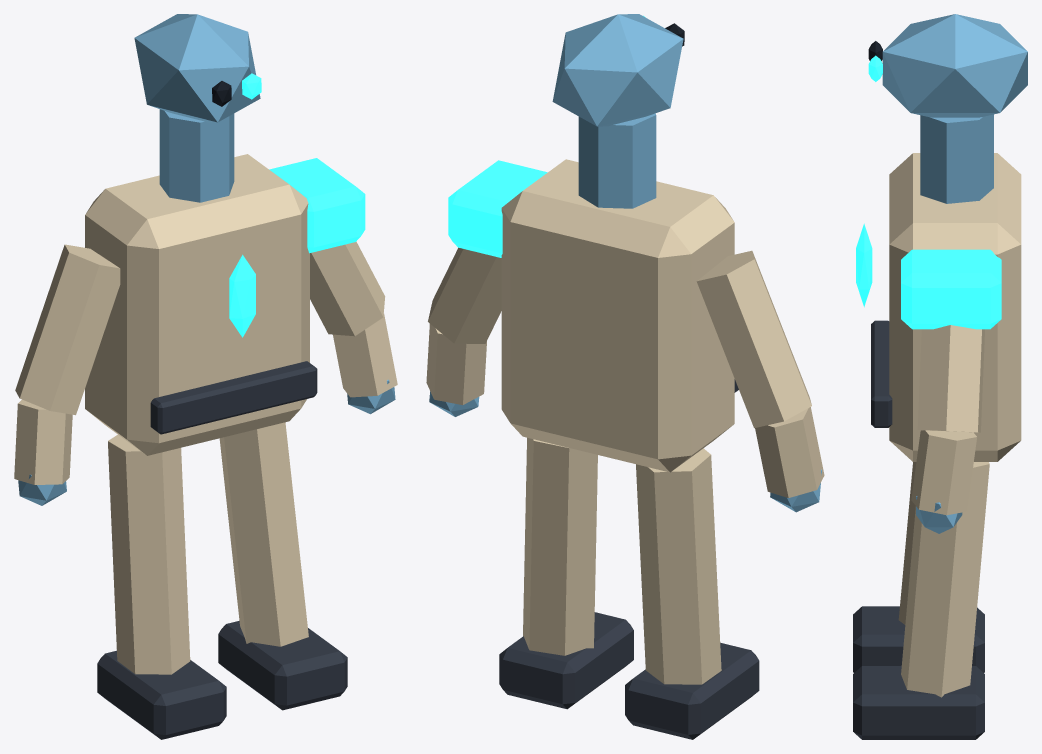
Rendered from npcs_026_seed11.glb.
3 renders of one model, left to right at view 1: azimuth 30°, elevation 25°; view 2: azimuth 150°, elevation 25°; view 3: azimuth 270°, elevation 25°, orthographic. The views are drawn at different scales.
Visible parts, largest first — view 1: npcs_026_seed11; view 2: npcs_026_seed11; view 3: npcs_026_seed11.
Boxes of the visible parts, x1,y1,x2,y2 form: npcs_026_seed11: [14, 14, 397, 739]; npcs_026_seed11: [426, 14, 824, 739]; npcs_026_seed11: [853, 14, 1027, 739].
Bounding box in the file's own units: 1.09 × 1.86 × 0.4334.
